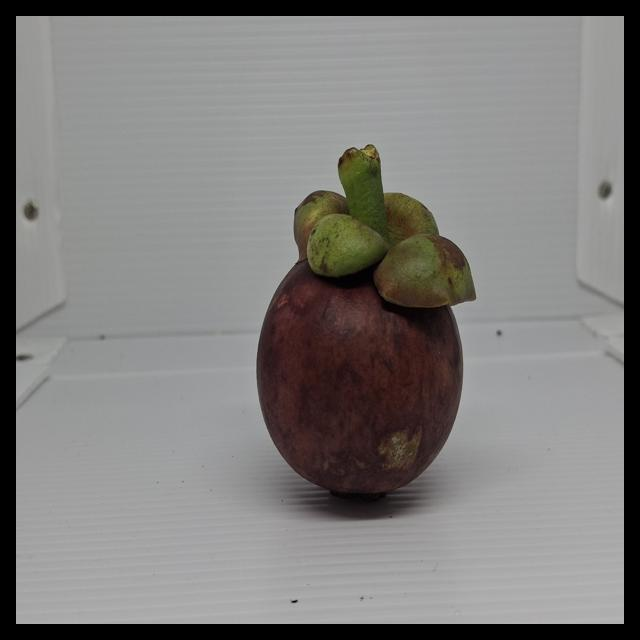mangosteen: (246, 123, 497, 535)
